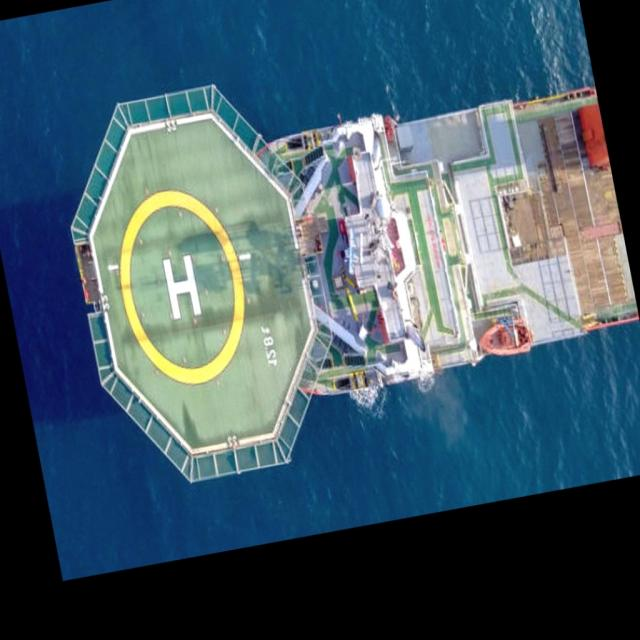helipad: (117, 187, 247, 387)
